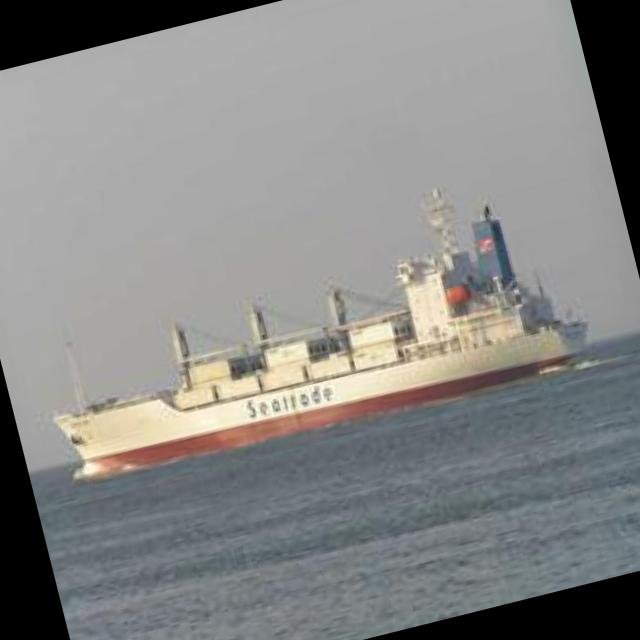boat: (36, 239, 596, 497)
